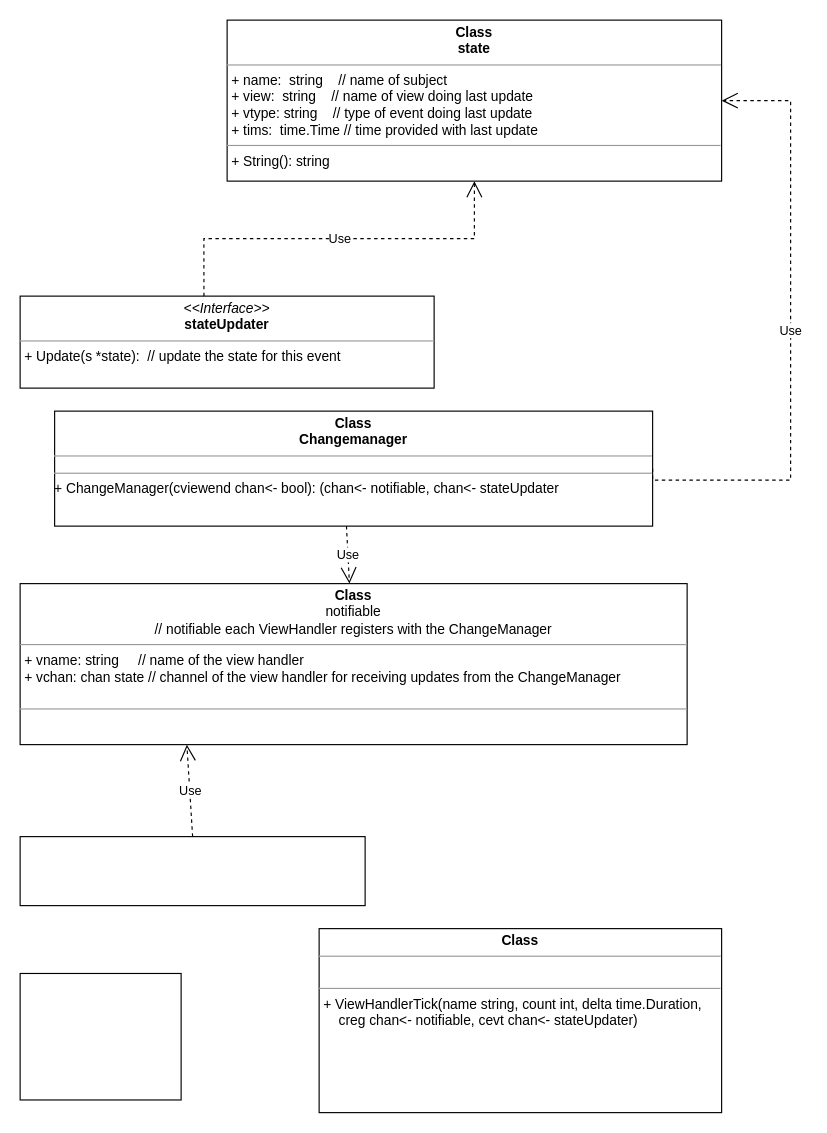
Some shapes in this 827 by 1133 pixel diagram are drawn without their labels. The shapes that lost their labels are listed below. From the top down, each one's centre as x and y in pixels, then its label:
At [192,870]: "Class + ViewHandlerLog(creg chan<- notifiable):".
At [100,1036]: "Class eventTick + String(): string + Update(s *state):".
